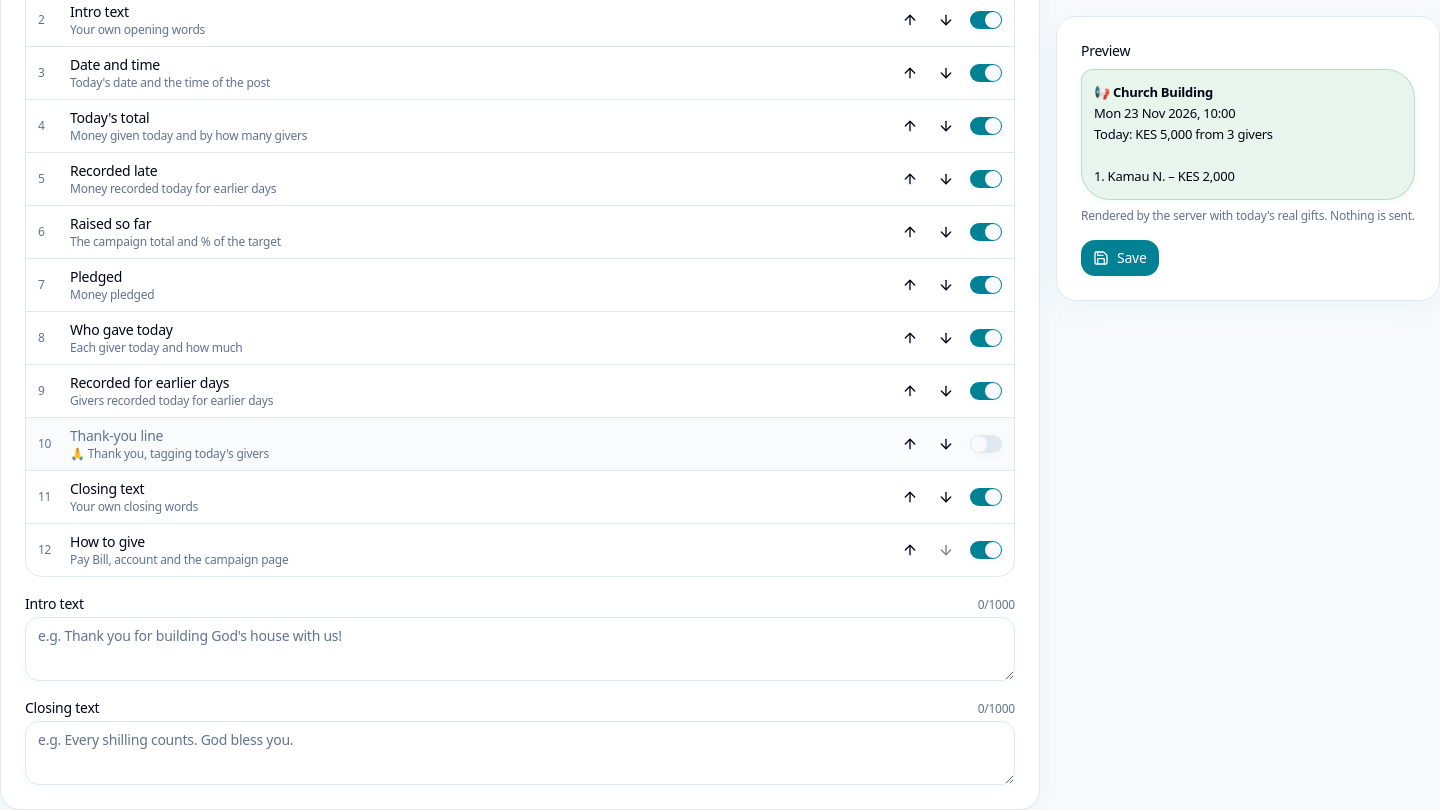
Test case: PostSettingsEditor — preview › waits for typing to stop before asking the server again
The width and height of the screenshot is (1440, 810).
(page scrolled)
Type "K" into the text box labelled "Intro text" at [520, 649], box [25,617,1015,681]
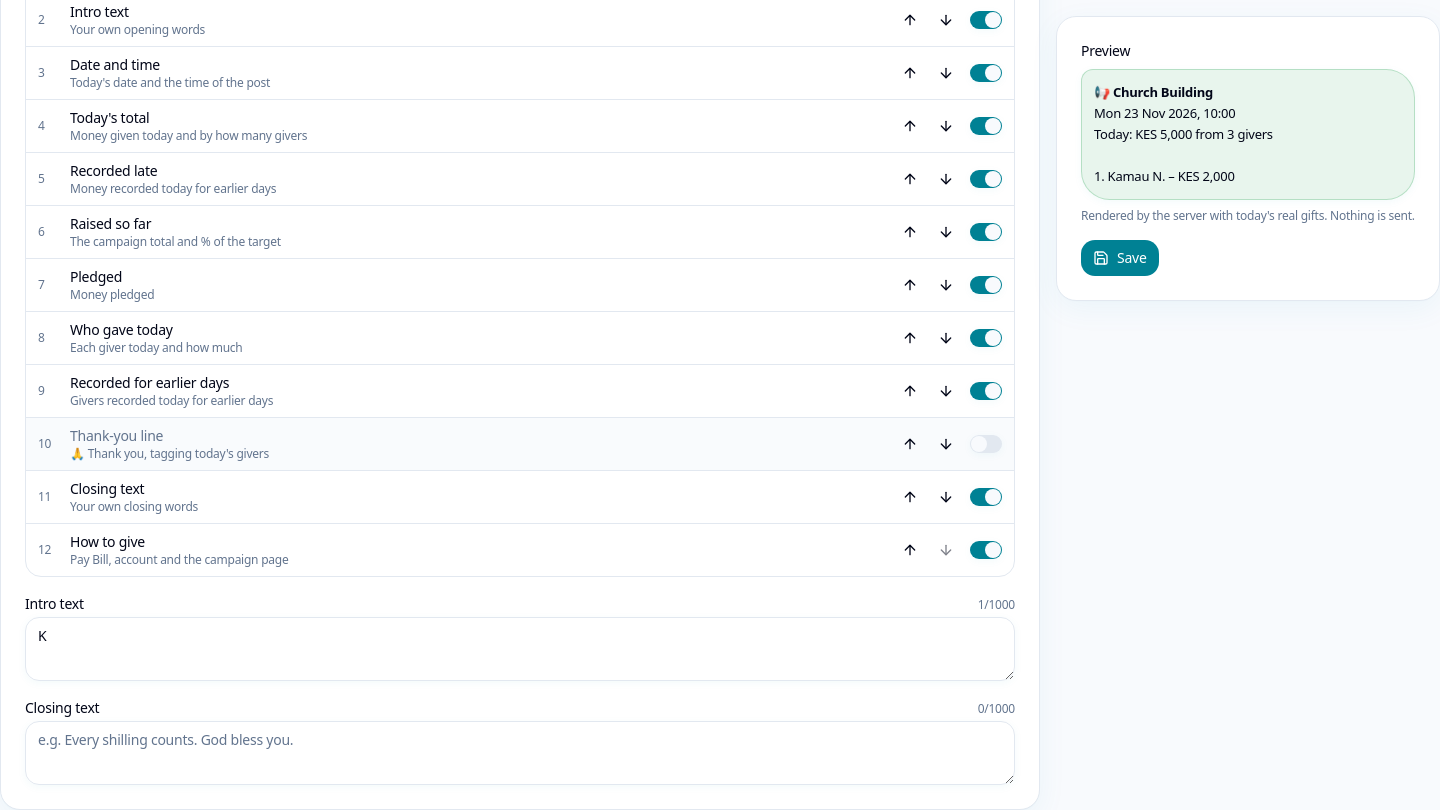
Replace the text in the text box labelled "Intro text" with "Ka" at [520, 649], box [25,617,1015,681]
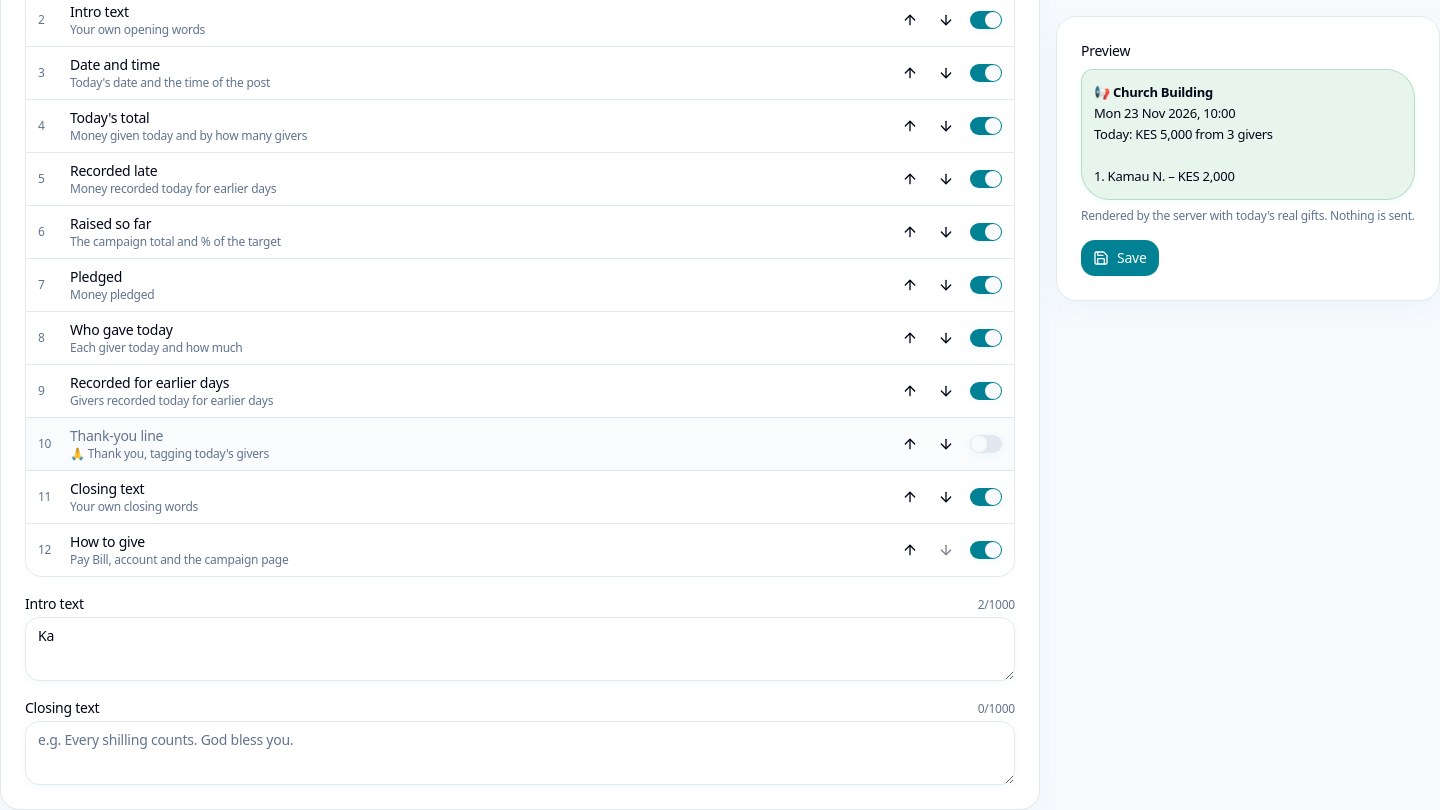
Replace the text in the text box labelled "Intro text" with "Kar" at [520, 649], box [25,617,1015,681]
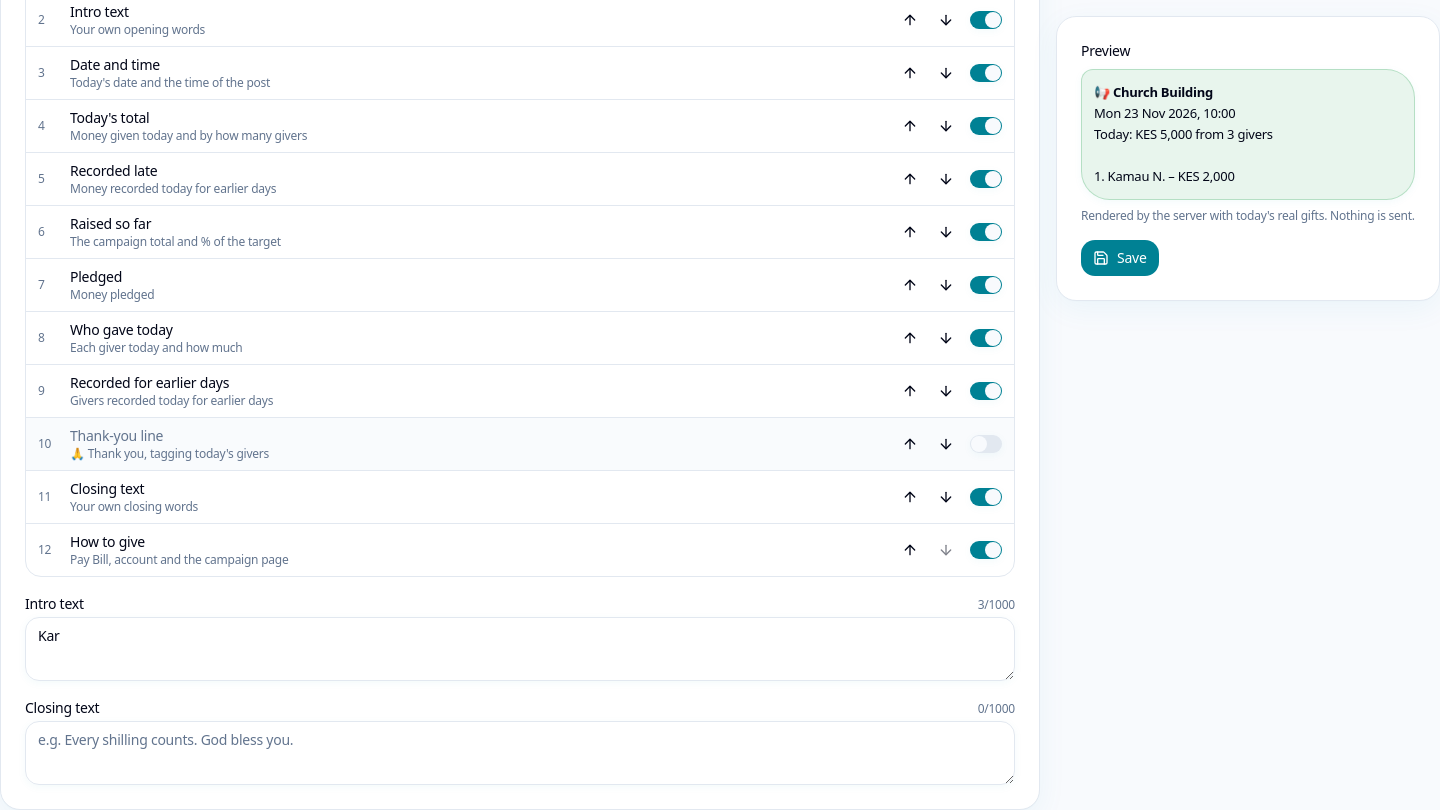
Replace the text in the text box labelled "Intro text" with "Kari" at [520, 649], box [25,617,1015,681]
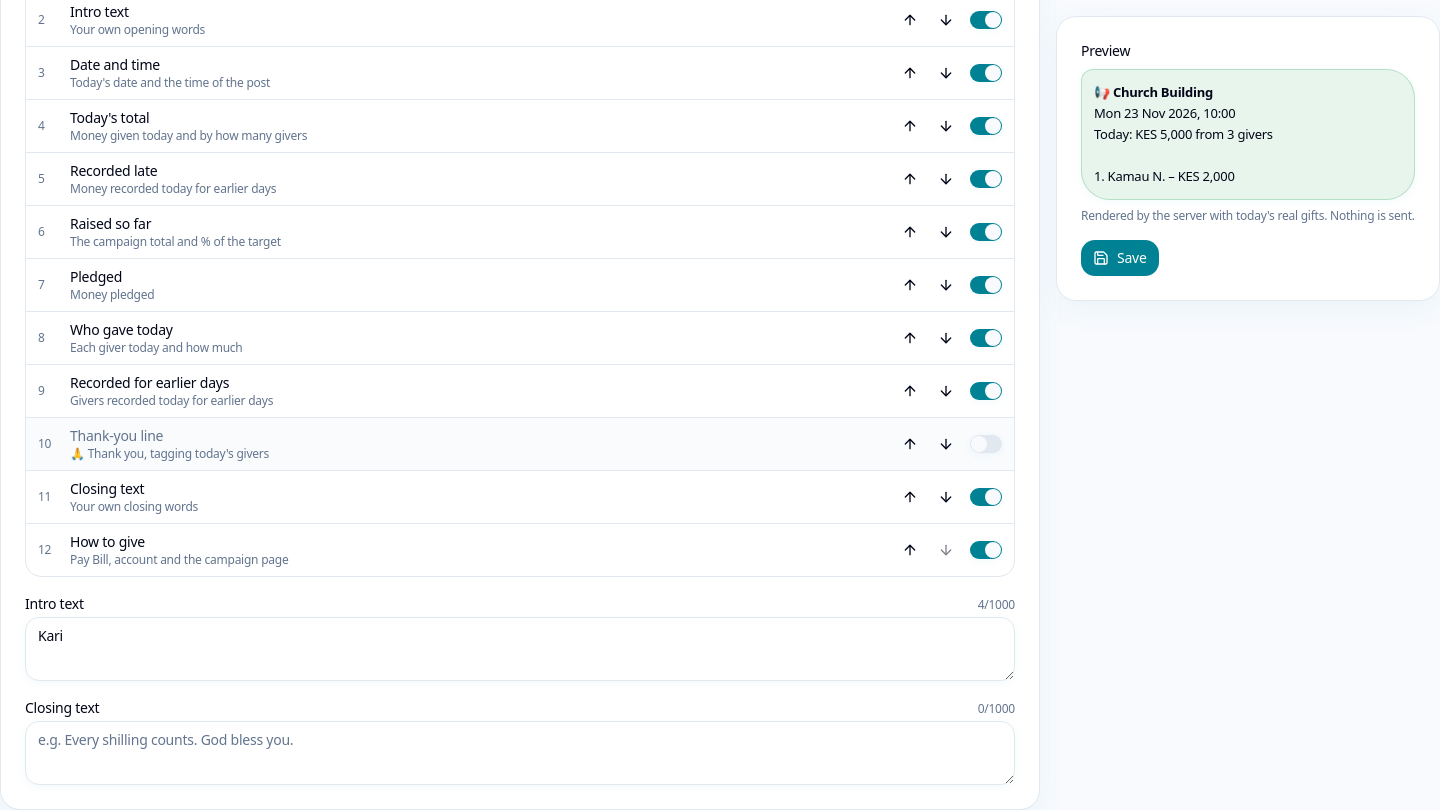
Replace the text in the text box labelled "Intro text" with "Karib" at [520, 649], box [25,617,1015,681]
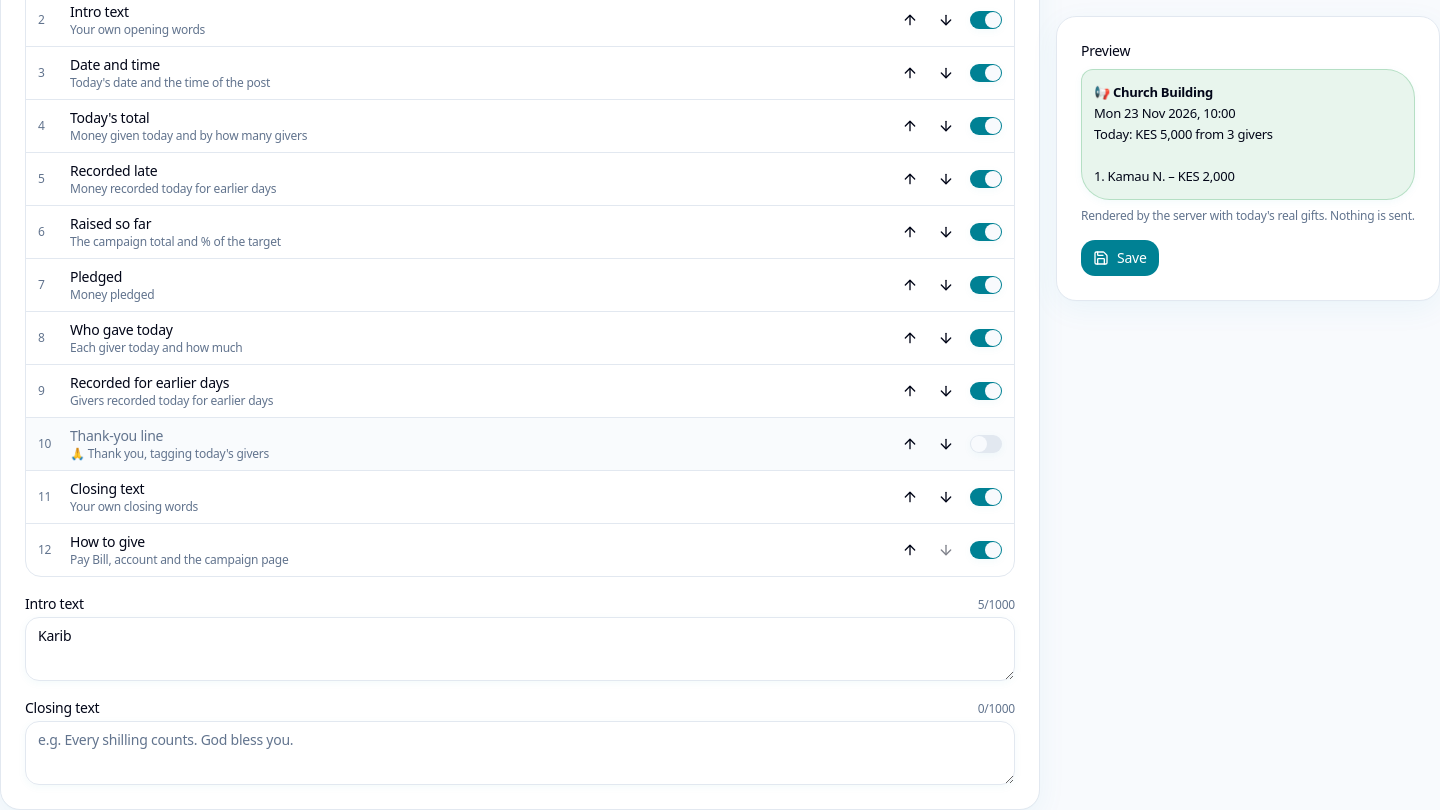
Replace the text in the text box labelled "Intro text" with "Karibu" at [520, 649], box [25,617,1015,681]
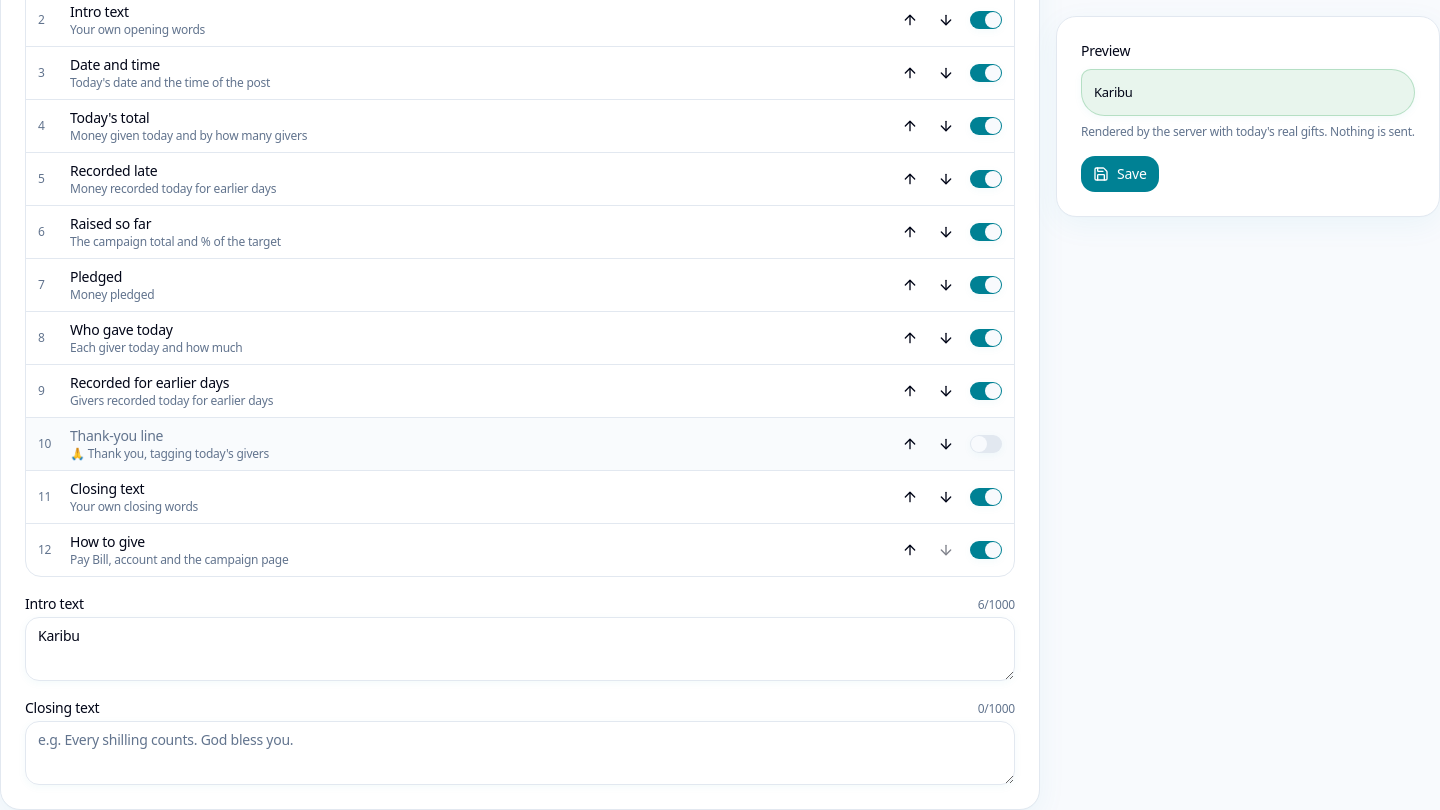
Result: the element with test id "totals-preview" reads "Karibu" at [1094,83,1133,101]
